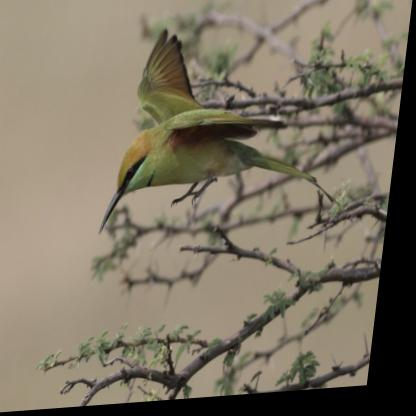Burung: (104, 19, 361, 237)
